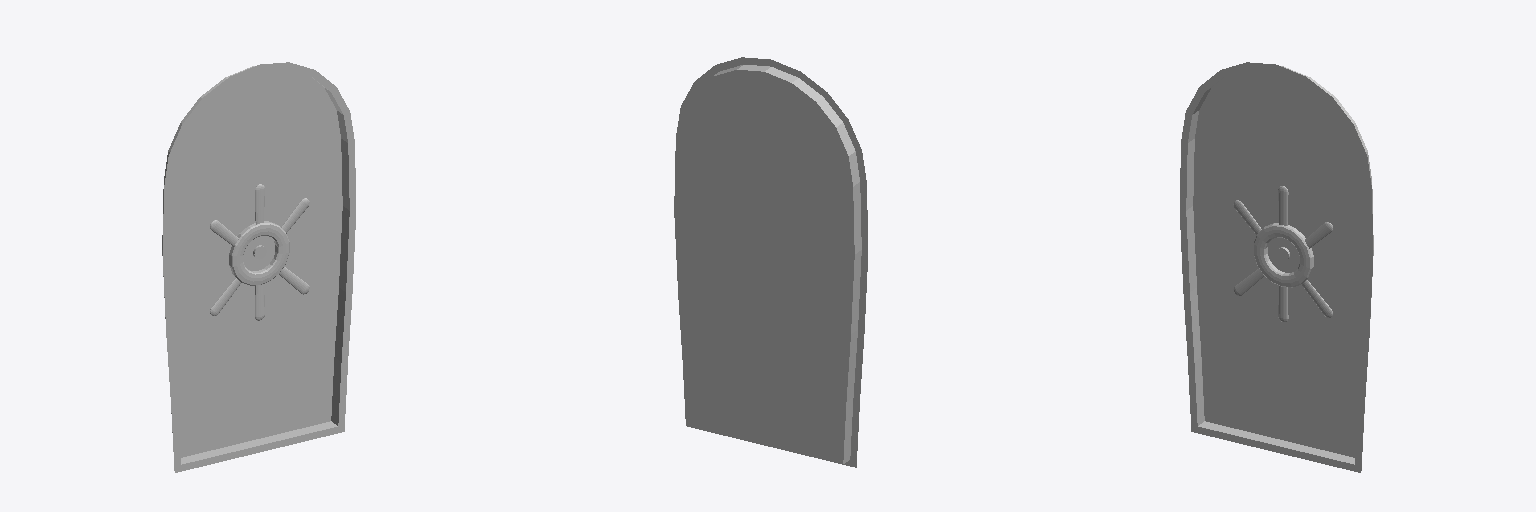
Rendered from marcoPuertaCuarto1.obj.
The picture shows the model from 3 angles: view 1: azimuth 30°, elevation 25°; view 2: azimuth 150°, elevation 25°; view 3: azimuth 330°, elevation 25°; orthographic projection.
Visible parts, largest first — view 1: pasted__pasted__polySurface18 group10; view 2: pasted__pasted__polySurface18 group10; view 3: pasted__pasted__polySurface18 group10.
Part boxes in pixels (left/top/right/bottom): pasted__pasted__polySurface18 group10: left=162, top=62, right=355, bottom=472; pasted__pasted__polySurface18 group10: left=674, top=57, right=867, bottom=467; pasted__pasted__polySurface18 group10: left=1180, top=62, right=1373, bottom=472.
Size of the model in its own units: 1.78 by 3.4 by 0.1156.